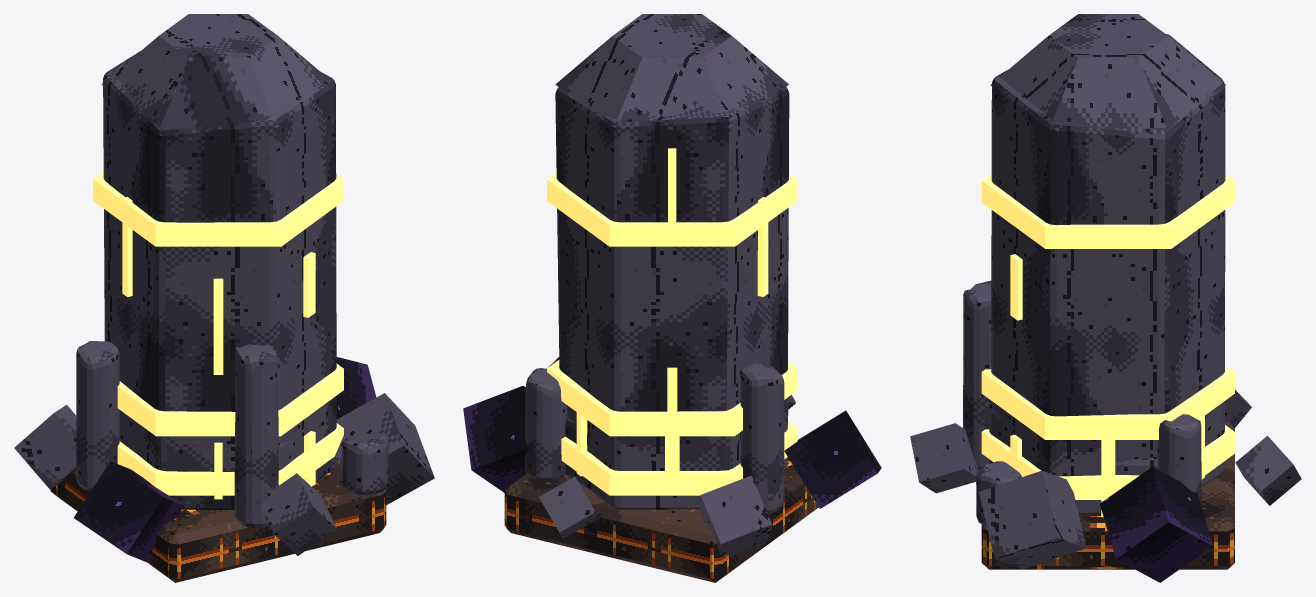
File: crater_pillar.glb
3 renders of one model, left to right at view 1: azimuth 30°, elevation 25°; view 2: azimuth 150°, elevation 25°; view 3: azimuth 270°, elevation 25°, orthographic.
Parts seen in each view (by area): view 1: Column, Stub, Base; view 2: Column, Stub, Base; view 3: Column, Stub, Base.
Boxes of the visible parts, x1,y1,x2,y2 form: Column: (76, 14, 343, 527); Stub: (14, 357, 434, 562); Base: (50, 461, 386, 582); Column: (525, 14, 797, 513); Stub: (463, 357, 881, 555); Base: (504, 457, 818, 582); Column: (963, 14, 1234, 517); Stub: (910, 390, 1301, 582); Base: (981, 422, 1234, 569).
Size of the model in its own units: 3.43 by 4.42 by 3.25.
Materials: 6 (3 with a texture image).
